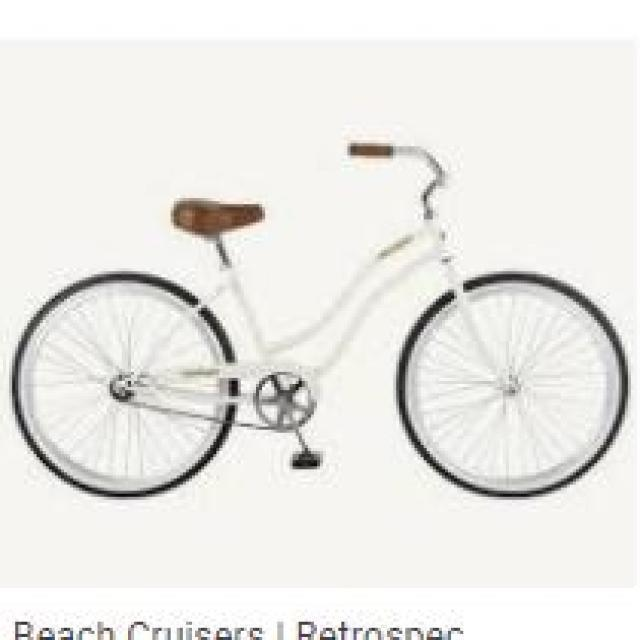bicycle: (25, 141, 631, 513)
